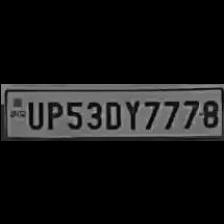3: (83, 97, 101, 129)
5: (62, 97, 82, 129)
7: (158, 97, 178, 129), (141, 97, 159, 129), (178, 96, 196, 128)
8: (198, 96, 218, 128)
D: (102, 97, 122, 129)
P: (43, 97, 61, 128)
U: (24, 97, 42, 128)
Y: (122, 96, 140, 130)
